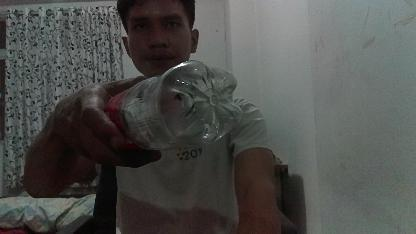Plastic Bottle: (97, 62, 245, 134)
